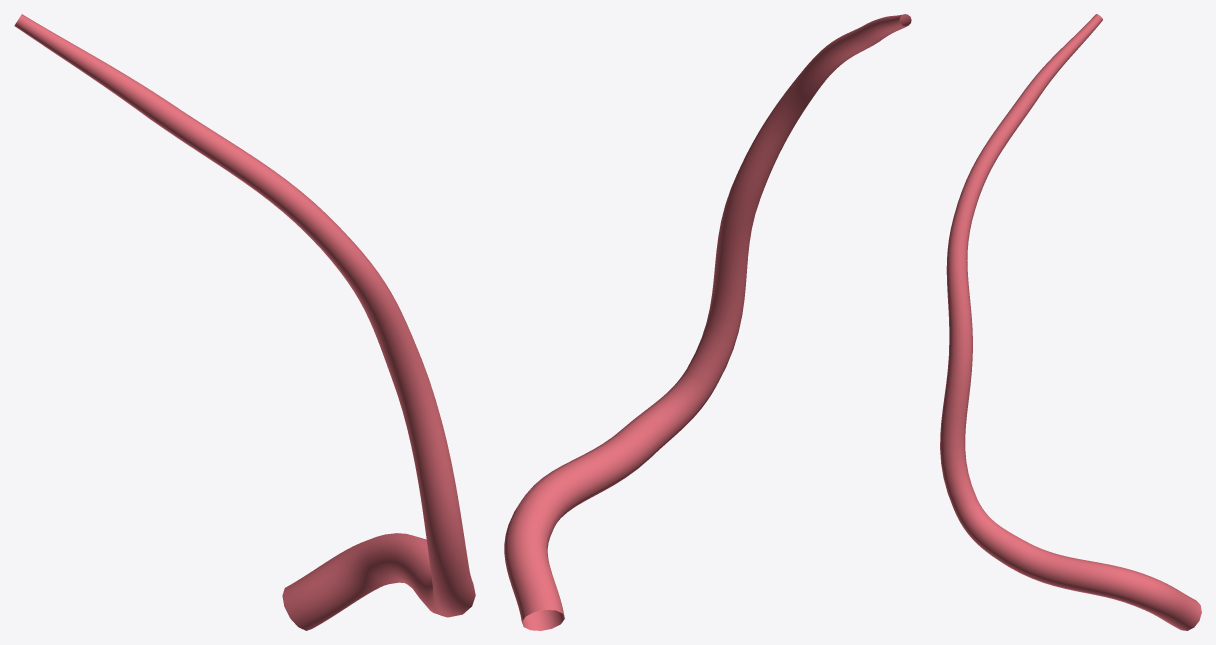
3 views of the same model, side by side, from view 1: azimuth 30°, elevation 25°; view 2: azimuth 150°, elevation 25°; view 3: azimuth 270°, elevation 25° (orthographic). The views are drawn at different scales.
Visible parts, largest first — view 1: ZA_47e2b4757b4f57cd; view 2: ZA_47e2b4757b4f57cd; view 3: ZA_47e2b4757b4f57cd.
Boxes of the visible parts, x1,y1,x2,y2 form: ZA_47e2b4757b4f57cd: (14, 14, 475, 630); ZA_47e2b4757b4f57cd: (504, 14, 911, 630); ZA_47e2b4757b4f57cd: (940, 14, 1201, 630).
Bounding box in the file's own units: 0.0139 × 0.0231 × 0.0109.
